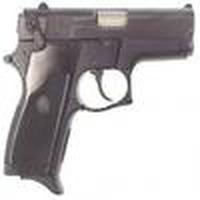gun: (1, 3, 198, 192)
